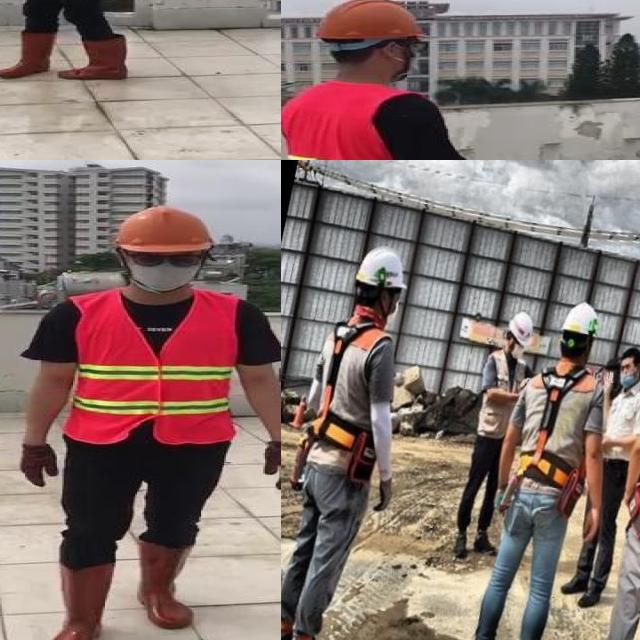Harness: (517, 368, 588, 490), (311, 323, 368, 452)
boots: (136, 536, 198, 629), (46, 562, 115, 640), (57, 34, 128, 81), (0, 31, 53, 81)
face_mask: (124, 246, 209, 290)
glasses: (121, 246, 213, 272)
hand_glove: (18, 442, 59, 486), (263, 441, 281, 490)
head_helmet: (310, 0, 429, 46), (108, 205, 216, 254)
person: (5, 204, 281, 640), (281, 0, 478, 160), (0, 0, 134, 83)
vest: (73, 292, 235, 443), (281, 82, 399, 160)
